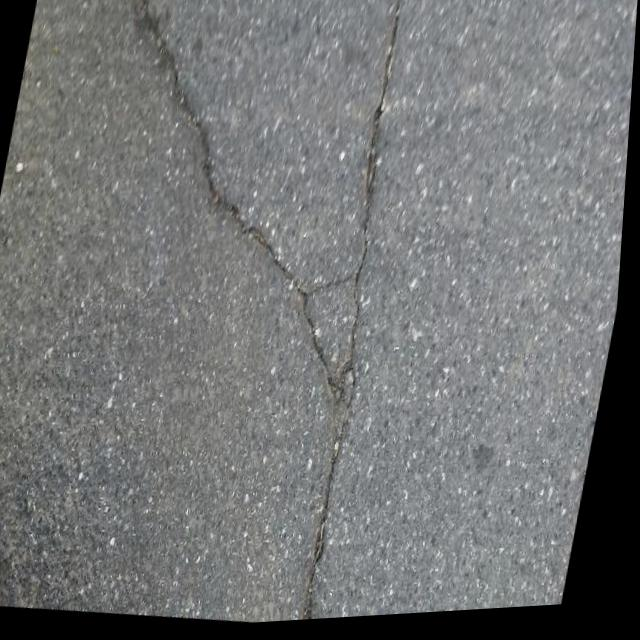Crack: (10, 0, 419, 437), (273, 0, 442, 626)
